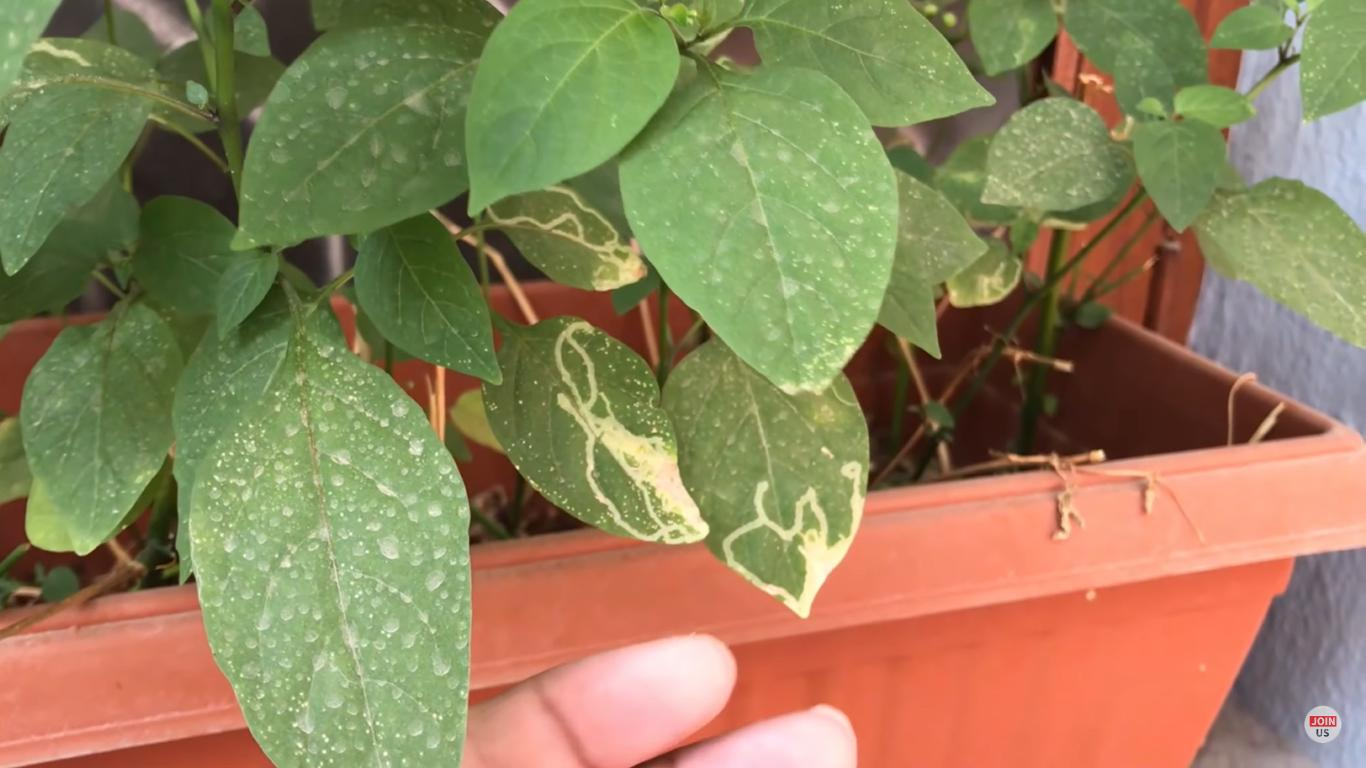Healthy: (461, 0, 680, 214), (353, 213, 503, 387)
Leaf_Miner: (660, 339, 873, 619), (476, 312, 710, 548), (484, 154, 648, 294), (0, 33, 161, 93), (944, 239, 1026, 313)
